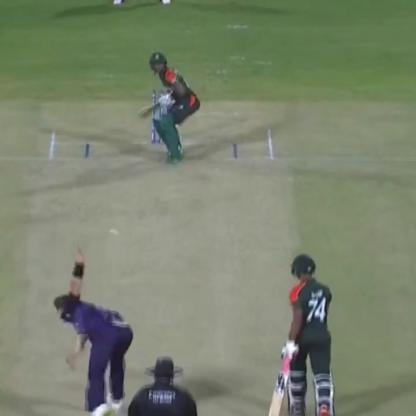ball: (104, 225, 122, 240)
bat: (264, 341, 295, 416), (127, 90, 176, 125)
pitch: (22, 109, 302, 416)
